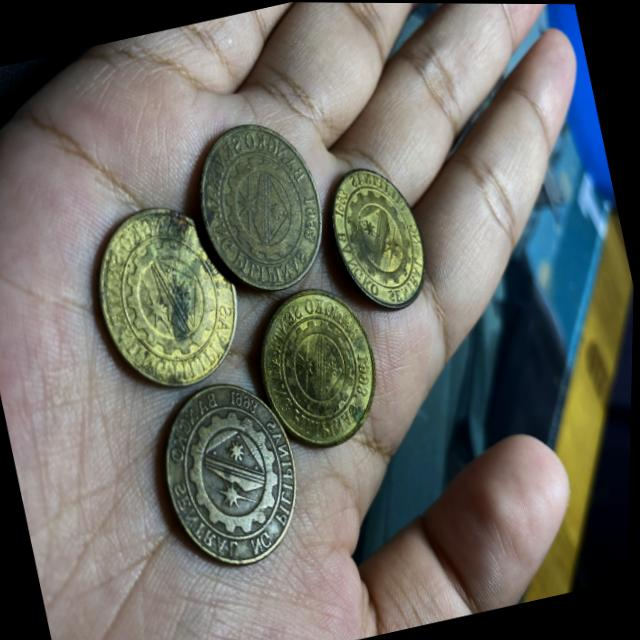25Cent_Old_Back: (96, 207, 242, 373), (160, 392, 303, 558), (194, 119, 332, 288), (264, 283, 390, 447), (329, 158, 434, 306)
